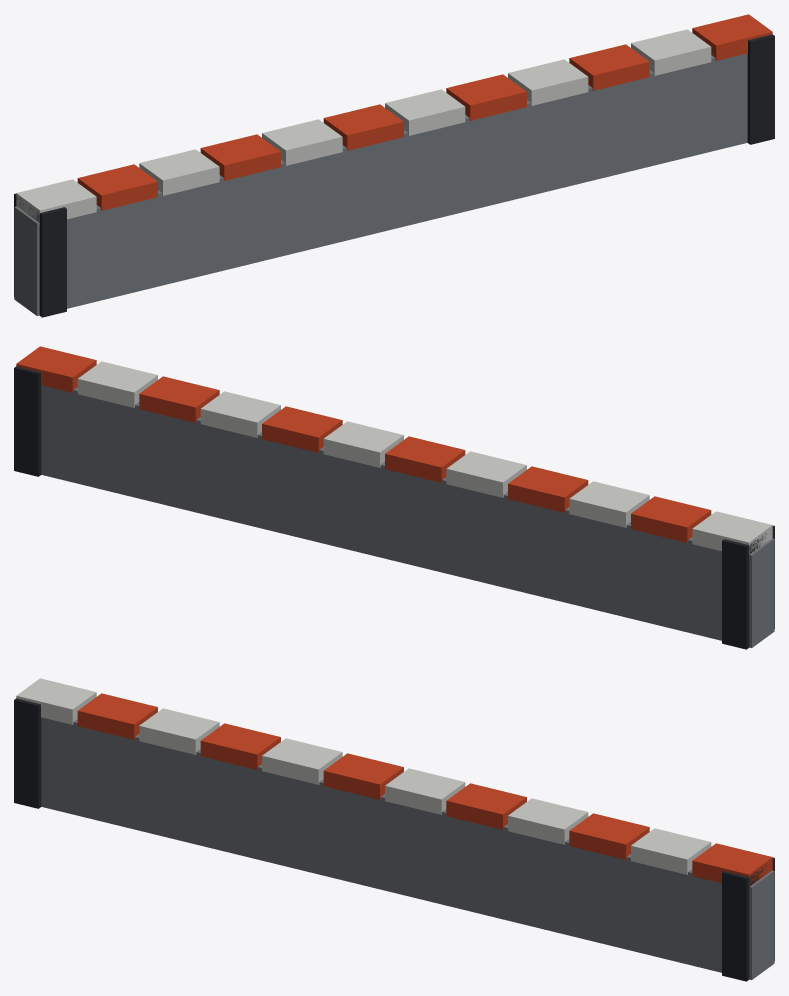
Rendered from desktop.glb.
3 renders of one model, top to bottom at view 1: azimuth 30°, elevation 25°; view 2: azimuth 150°, elevation 25°; view 3: azimuth 330°, elevation 25°, orthographic.
Parts seen in each view (by area): view 1: county-barrier; view 2: county-barrier; view 3: county-barrier.
Boxes of the visible parts, x1=… form: county-barrier: x1=14, y1=14, x2=774, y2=317; county-barrier: x1=14, y1=346, x2=774, y2=649; county-barrier: x1=14, y1=678, x2=774, y2=981.
Bounding box in the file's own units: 15 × 2.05 × 1.
